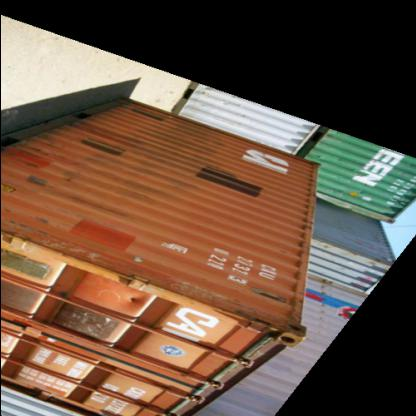Damage: (148, 273, 300, 331), (14, 225, 144, 269), (135, 126, 203, 204), (18, 164, 66, 204)
